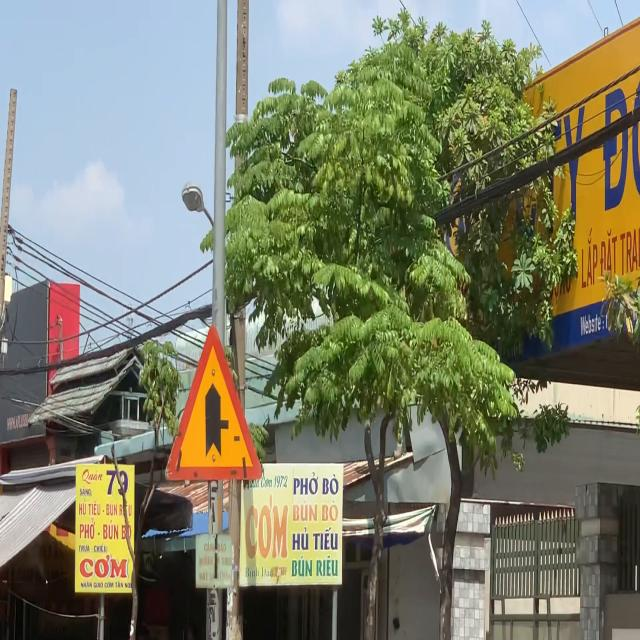Giao voi duong khong uu tien: (165, 324, 262, 482)
